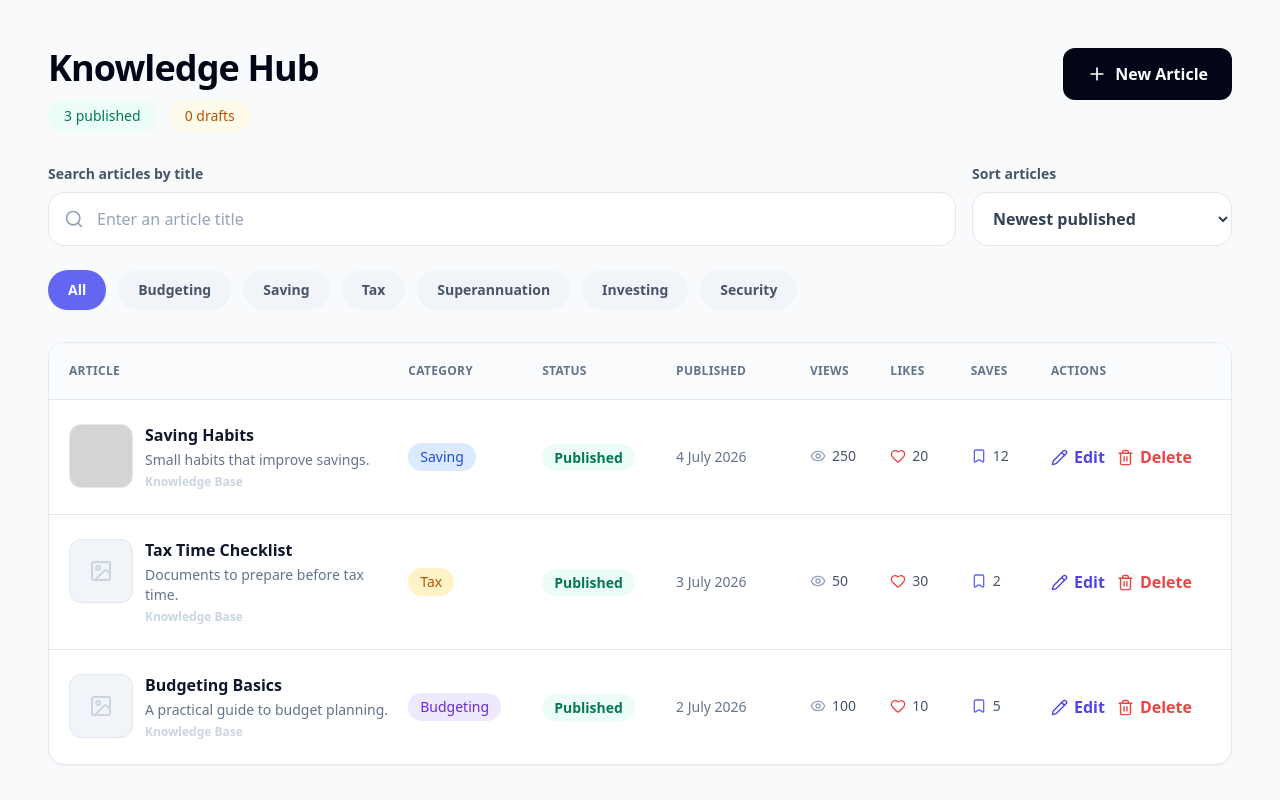
Test: deletes an article after confirmation
This screenshot has width=1280, height=800.
Expected: the heading "Budgeting Basics" is shown, [145, 674, 282, 696]
Click the button "Delete" in the row of "12" at (1154, 457), box [1117, 445, 1192, 469]
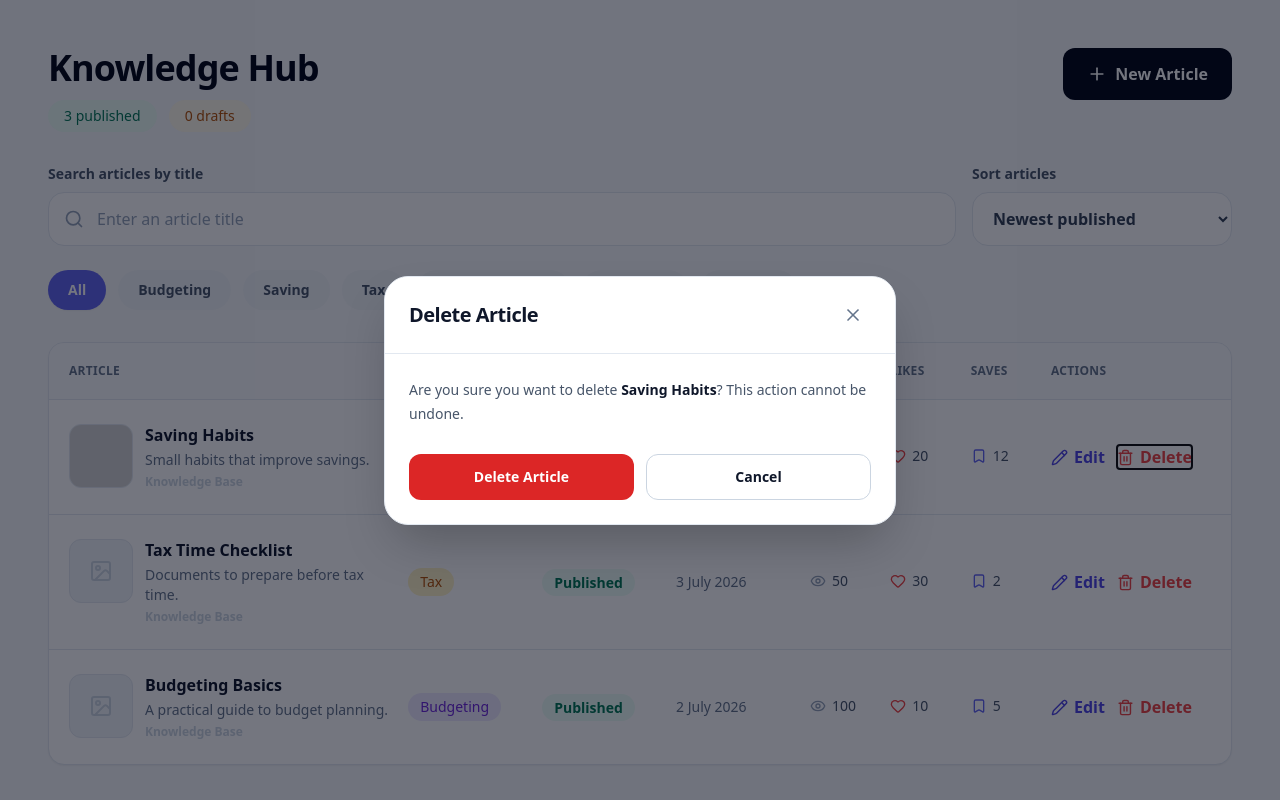
Expected: the dialog "Delete Article" shows "Saving Habits", [621, 380, 717, 398]
Click the button "Delete Article" at (522, 476), box [409, 454, 634, 500]
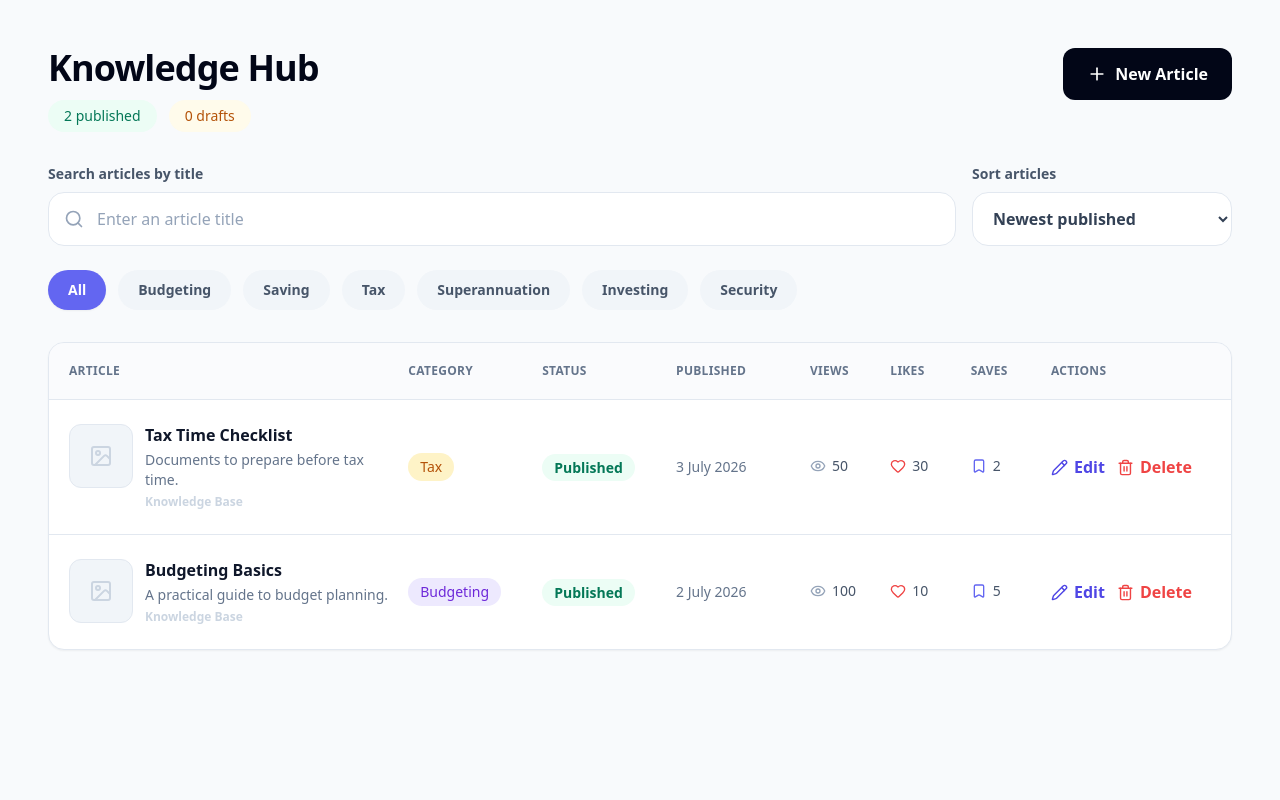
Expected: the heading "Saving Habits" is gone
